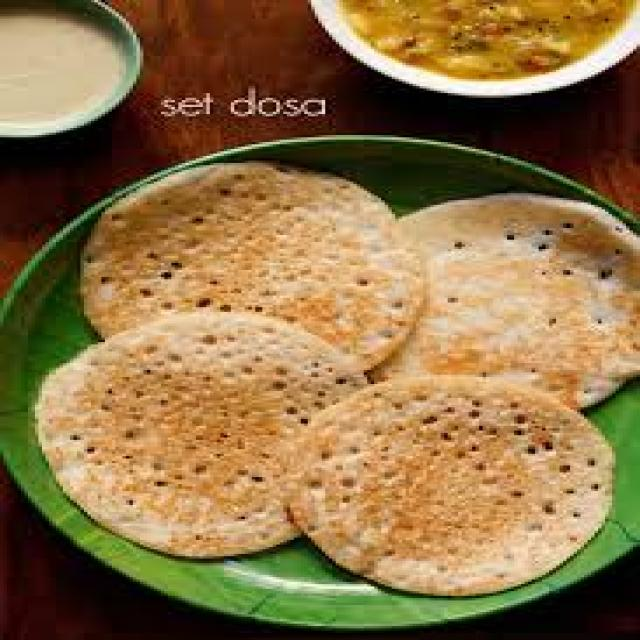DOSA: (47, 316, 353, 560), (286, 377, 621, 588), (87, 172, 411, 361), (370, 199, 637, 419)
